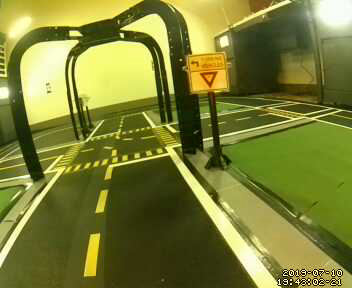Turn Yield: (186, 53, 231, 93)
